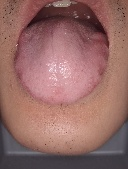tongue: (12, 23, 109, 106)
